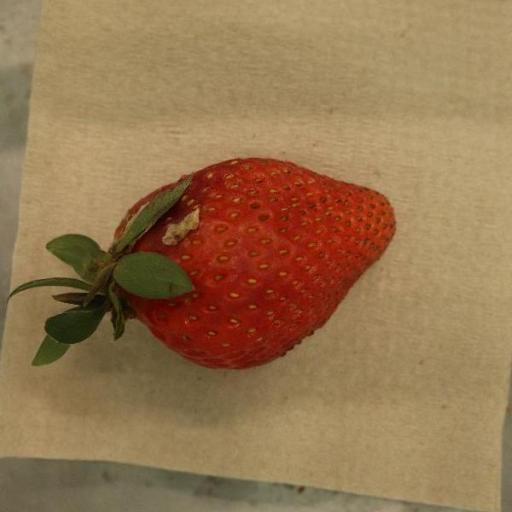Strawberry: (11, 157, 395, 369)
